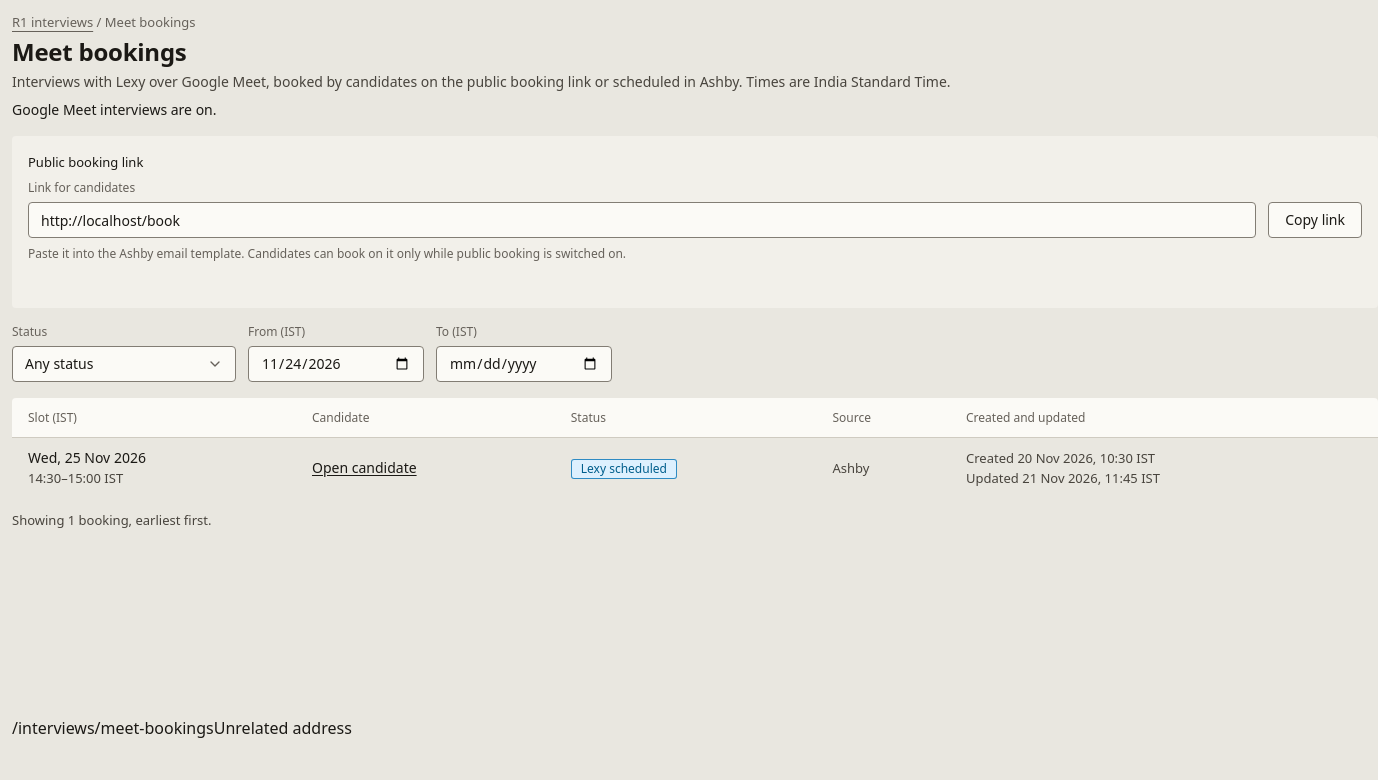
opening the page › goes back to R1 interviews by the breadcrumb
Click the link "R1 interviews" at {"x": 53, "y": 22}, box [12,13,93,31]
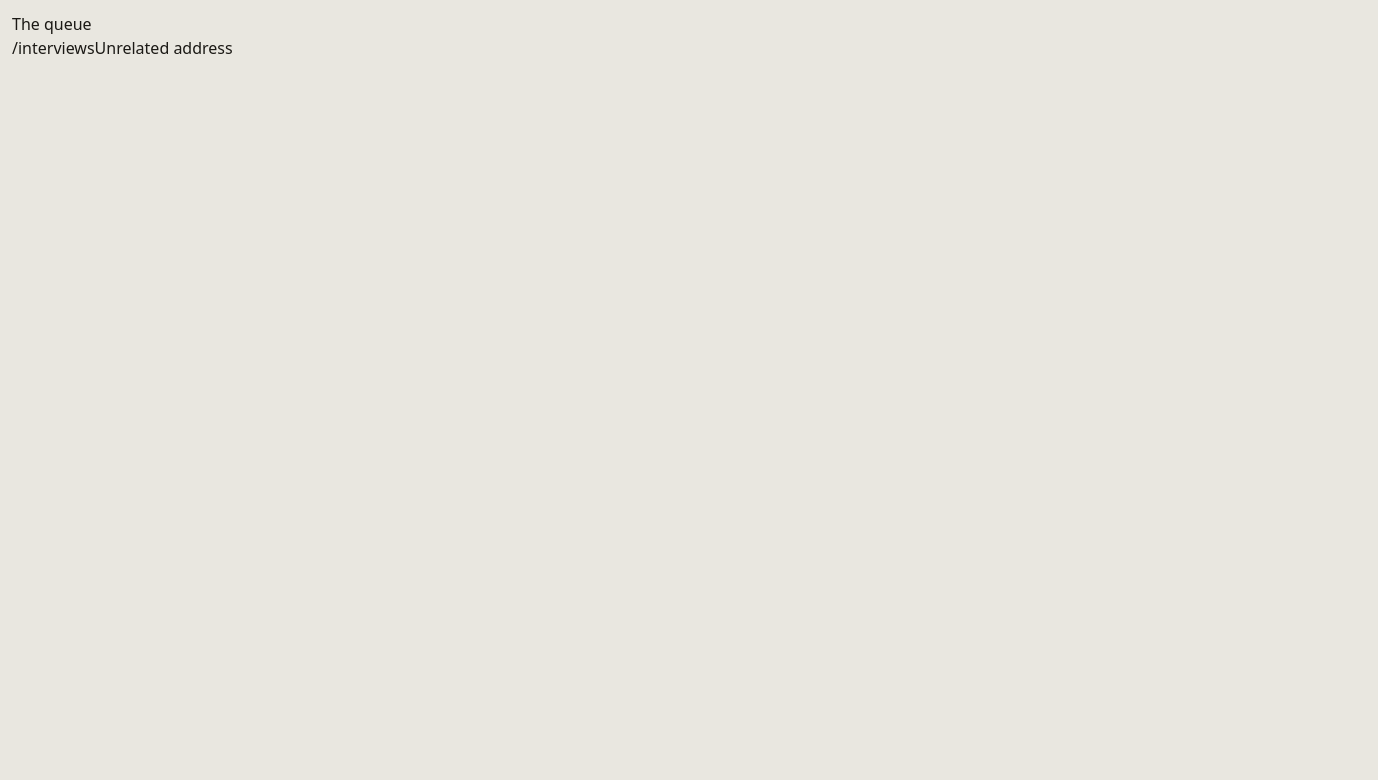
Expected: the text "The queue" is shown, [12,13,92,35]
Expected: the text with test id "address" reads "/interviews", [12,37,95,59]
